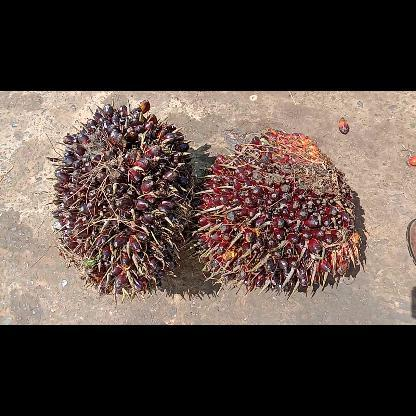TBS mentah: (43, 96, 195, 298), (192, 129, 362, 291)
